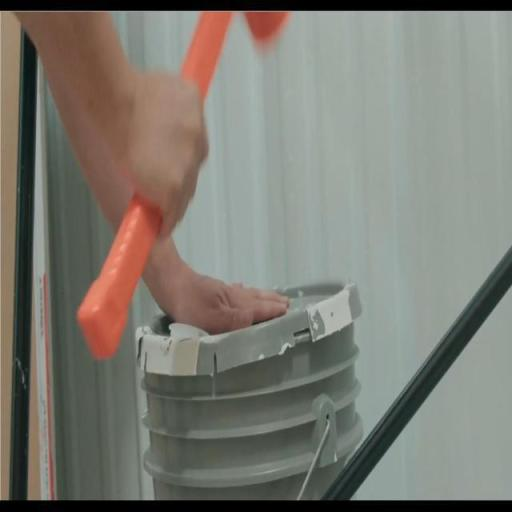mallet: (76, 11, 291, 361)
